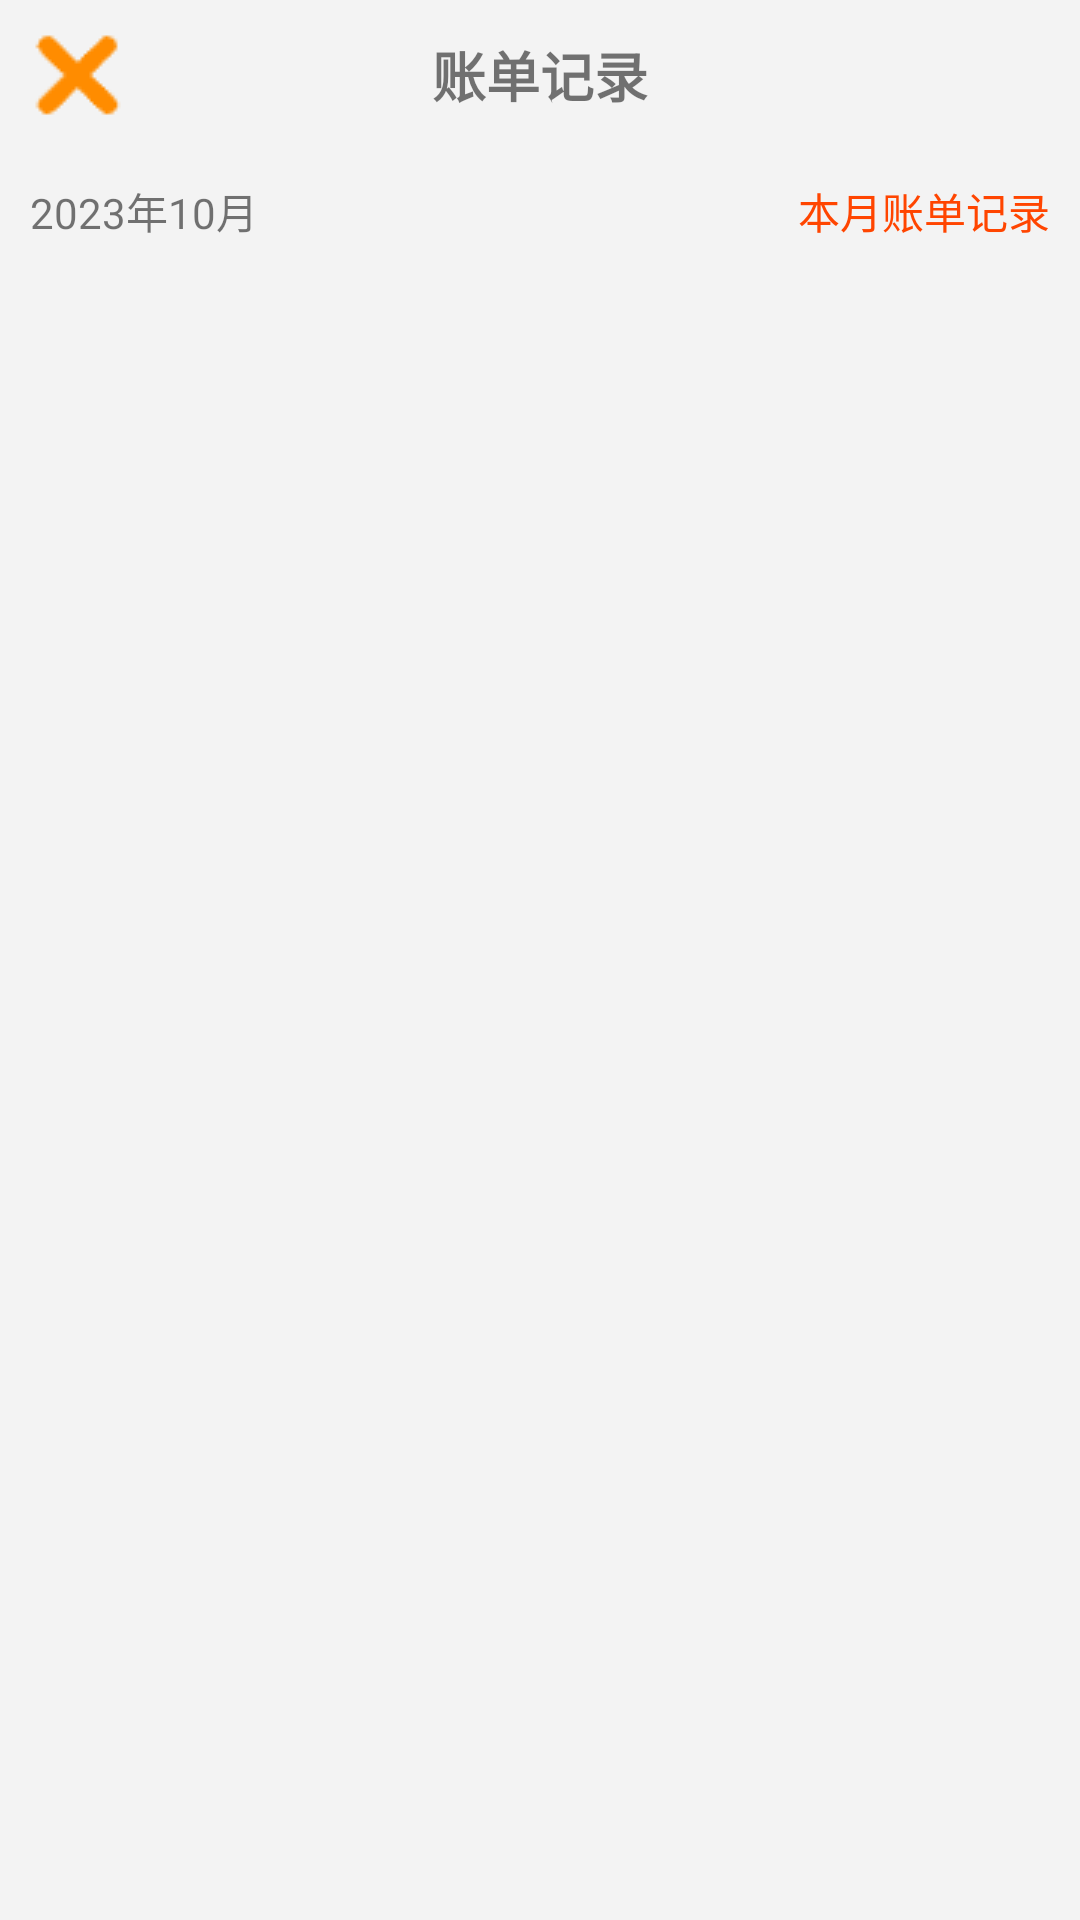

Icon bounding boxes for this 1080px×1920px phone screenshot, format detection(x1, y1, x2, y2):
wrong: detection(35, 35, 119, 115)
